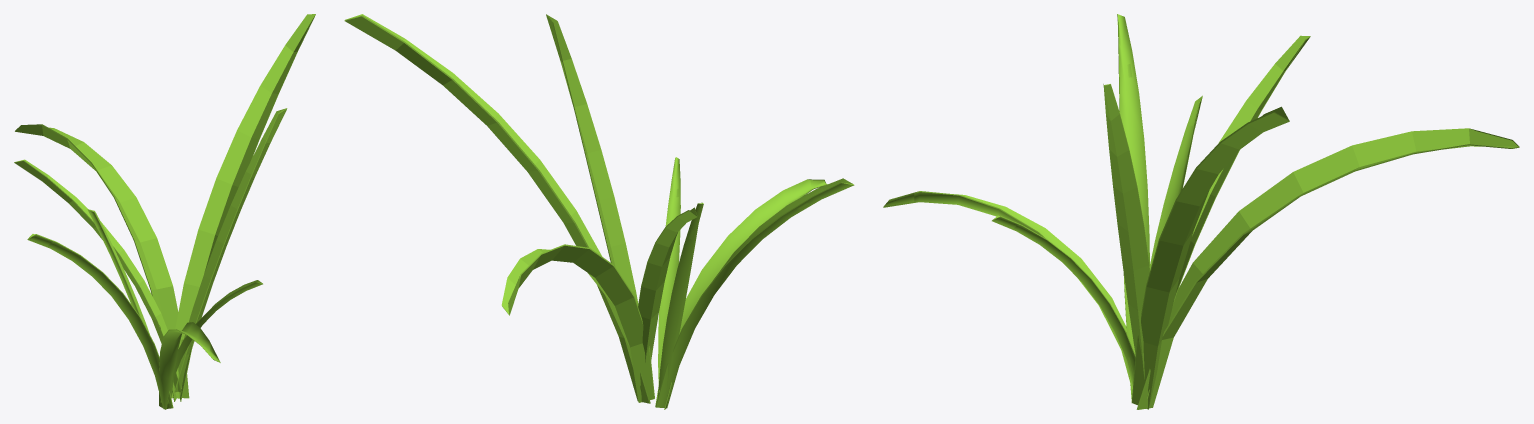
The model's file is Grass_001.FBX.
The picture shows the model from 3 angles, left to right: view 1: azimuth 30°, elevation 25°; view 2: azimuth 150°, elevation 25°; view 3: azimuth 270°, elevation 25°; orthographic projection. The views are drawn at different scales.
Parts seen in each view (by area): view 1: Grass_001; view 2: Grass_001; view 3: Grass_001.
Boxes of the visible parts, box(x1,y1,x2,y2) form: Grass_001: box(14, 14, 315, 409); Grass_001: box(344, 14, 854, 409); Grass_001: box(883, 14, 1519, 409).
Size of the model in its own units: 1184 by 995 by 1350.
